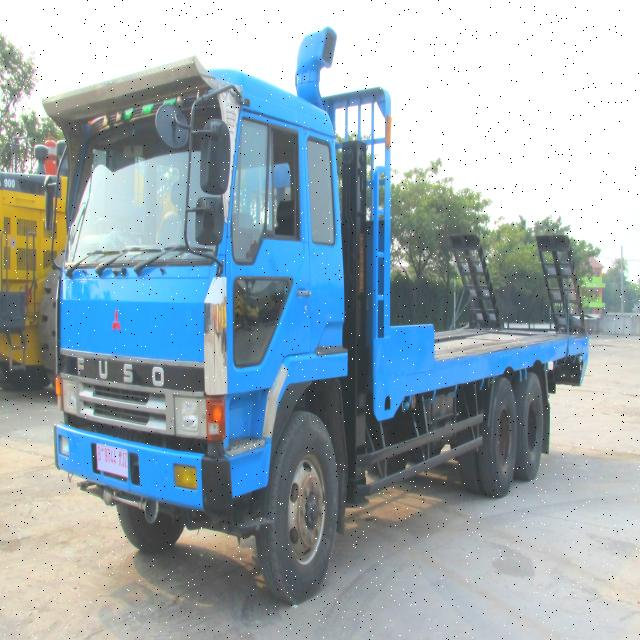truck: (41, 25, 588, 606)
